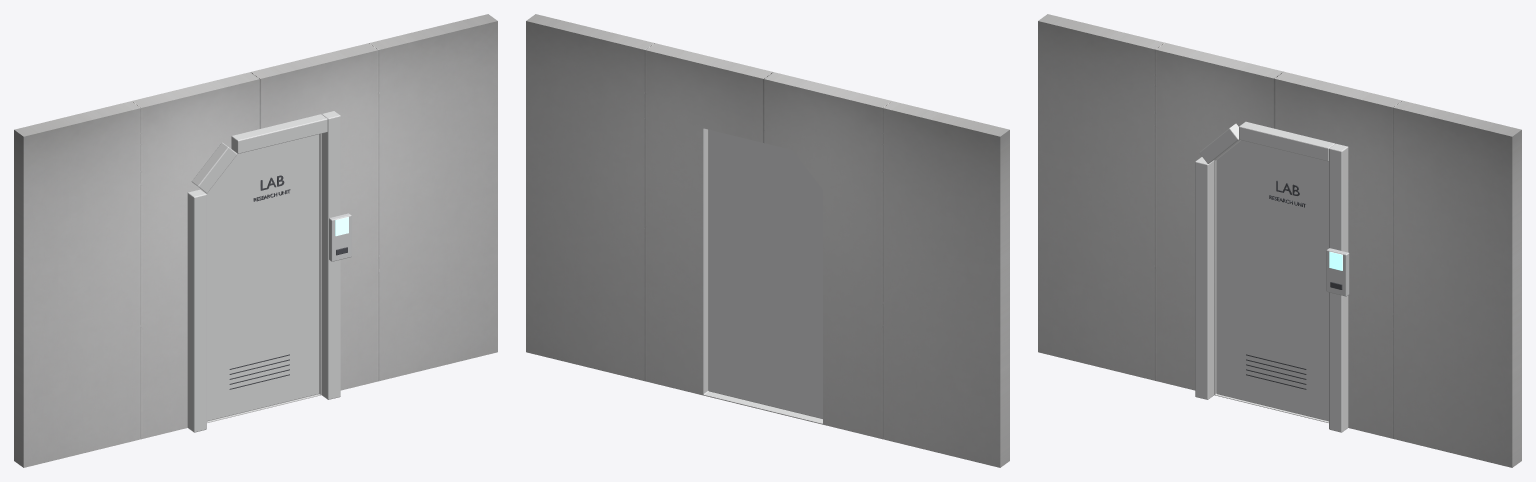
The model's file is LabDoor (1).glb.
3 views of the same model, side by side, from view 1: azimuth 30°, elevation 25°; view 2: azimuth 150°, elevation 25°; view 3: azimuth 330°, elevation 25° (orthographic).
Visible parts, largest first — view 1: LabDoor, LabDoor.001, LabDoor.002; view 2: LabDoor, LabDoor.001; view 3: LabDoor, LabDoor.001, LabDoor.002.
Boxes of the visible parts, bbox=[...] form: LabDoor: bbox=[14, 14, 497, 467]; LabDoor.001: bbox=[201, 134, 319, 421]; LabDoor.002: bbox=[187, 111, 351, 432]; LabDoor: bbox=[526, 14, 1009, 467]; LabDoor.001: bbox=[708, 129, 822, 418]; LabDoor: bbox=[1038, 14, 1521, 467]; LabDoor.001: bbox=[1216, 140, 1328, 421]; LabDoor.002: bbox=[1195, 121, 1349, 432].
Size of the model in its own units: 4 by 2.67 by 0.292.
5 materials, 1 textured.
